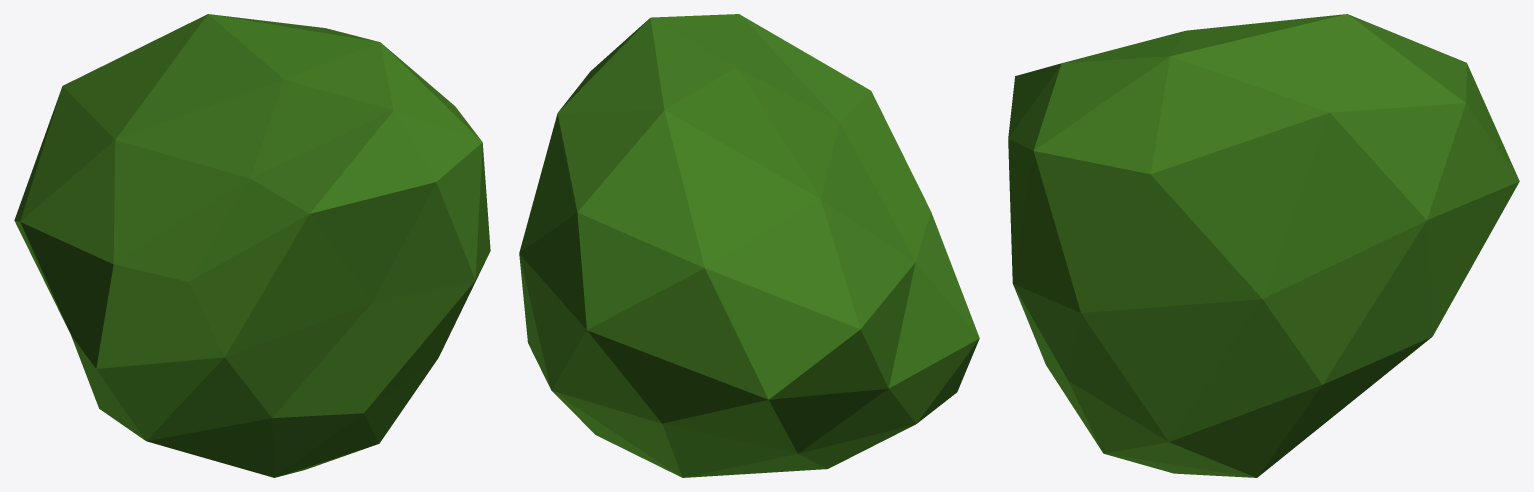
Rendered from low-poly-bush-1.fbx.
The picture shows the model from 3 angles, left to right: view 1: azimuth 30°, elevation 25°; view 2: azimuth 150°, elevation 25°; view 3: azimuth 270°, elevation 25°; orthographic projection. The views are drawn at different scales.
Parts seen in each view (by area): view 1: Icosphere.004; view 2: Icosphere.004; view 3: Icosphere.004.
Part boxes in pixels (bbox=[...]): Icosphere.004: bbox=[14, 14, 490, 477]; Icosphere.004: bbox=[519, 14, 979, 477]; Icosphere.004: bbox=[1008, 14, 1519, 477].
Size of the model in its own units: 409 by 435 by 441.
